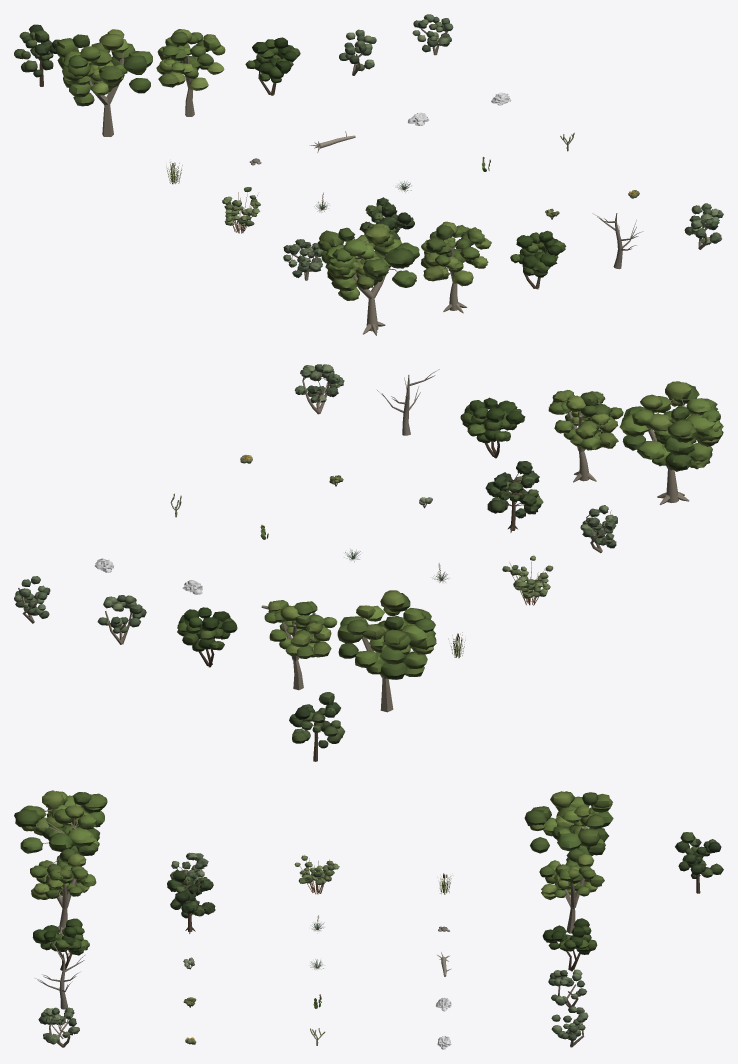
The model's file is flora.fbx.
The picture shows the model from 3 angles, top to bottom: view 1: azimuth 30°, elevation 25°; view 2: azimuth 150°, elevation 25°; view 3: azimuth 270°, elevation 25°; orthographic projection. The views are drawn at different scales.
Parts seen in each view (by area): view 1: tree_cotton_a, tree_cotton_a_far, tree_cotton_b, tree_cotton_b_far, tree_oak, tree_oak_far, tree_pinyon_far, tree_pinyon, tree_juniper_b, tree_juniper, tree_juniper_b_far, bush_willow (+1 smaller); view 2: tree_cotton_a, tree_cotton_a_far, tree_cotton_b, tree_cotton_b_far, tree_oak, tree_pinyon, tree_oak_far, tree_pinyon_far, tree_juniper, tree_juniper_far, tree_juniper_b, bush_willow (+1 smaller); view 3: tree_cotton_a, tree_cotton_a_far, tree_cotton_b, tree_cotton_b_far, tree_pinyon, tree_oak, tree_pinyon_far, tree_oak_far, tree_juniper, bush_willow, tree_juniper_far, tree_juniper_b_far (+2 smaller).
Boxes of the visible parts, box(x1,y1,x2,y2) form: tree_cotton_a: box(317, 223, 419, 335); tree_cotton_a_far: box(55, 29, 152, 136); tree_cotton_b: box(421, 221, 491, 313); tree_cotton_b_far: box(156, 29, 225, 116); tree_oak: box(510, 230, 566, 289); tree_oak_far: box(245, 37, 300, 95); tree_pinyon_far: box(14, 24, 59, 86); tree_pinyon: box(359, 197, 414, 239); tree_juniper_b: box(283, 239, 323, 280); tree_juniper: box(684, 203, 723, 249); tree_juniper_b_far: box(412, 14, 453, 55); bush_willow: box(222, 187, 260, 233); tree_cotton_a: box(619, 381, 723, 504); tree_cotton_a_far: box(337, 590, 436, 712); tree_cotton_b: box(548, 390, 623, 482); tree_cotton_b_far: box(264, 600, 337, 690); tree_oak: box(460, 397, 525, 458); tree_pinyon: box(485, 461, 543, 532); tree_oak_far: box(177, 607, 237, 667); tree_pinyon_far: box(289, 692, 345, 761); tree_juniper: box(294, 364, 344, 414); tree_juniper_far: box(97, 595, 146, 644); tree_juniper_b: box(580, 505, 617, 553); bush_willow: box(502, 555, 553, 605); tree_cotton_a: box(14, 790, 107, 895); tree_cotton_a_far: box(524, 791, 613, 895); tree_cotton_b: box(30, 848, 96, 933); tree_cotton_b_far: box(539, 848, 604, 933); tree_pinyon: box(167, 869, 215, 933); tree_oak: box(32, 918, 89, 970); tree_pinyon_far: box(675, 832, 723, 893); tree_oak_far: box(542, 918, 597, 971); tree_juniper: box(38, 1007, 79, 1047); bush_willow: box(294, 855, 339, 894); tree_juniper_far: box(548, 969, 586, 1007); tree_juniper_b_far: box(551, 1006, 588, 1047).
Bounding box in the file's own units: 33.49 × 8.88 × 54.76.
